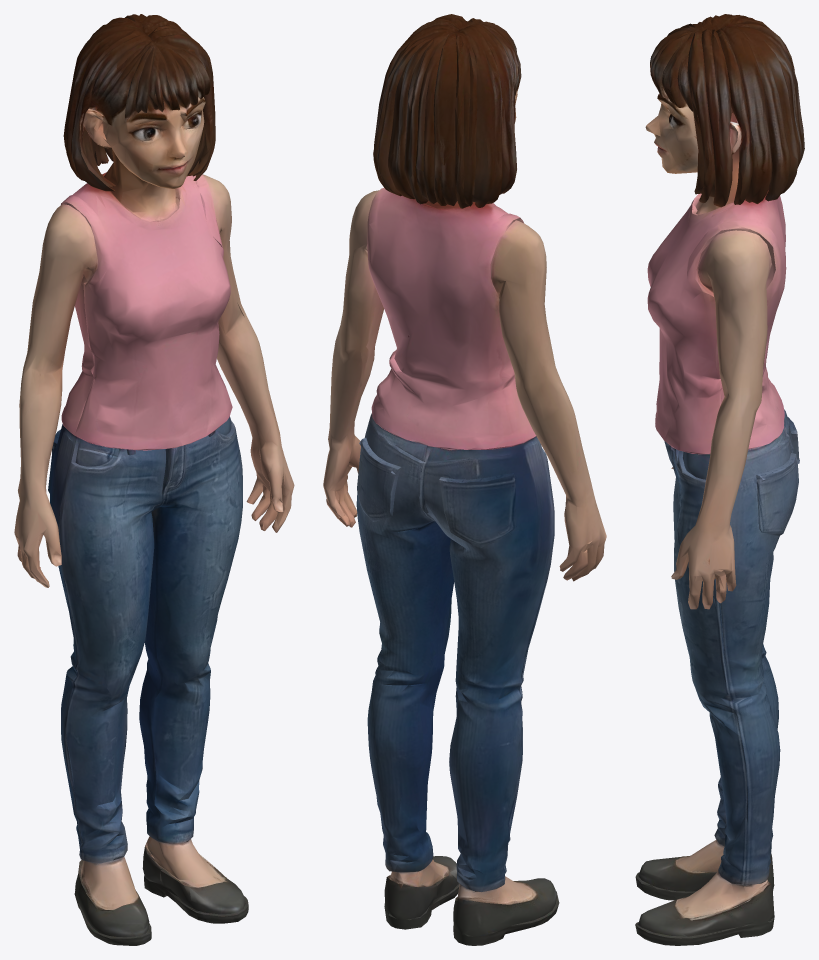
Rendered from player_female_01.glb.
The picture shows the model from 3 angles, left to right: view 1: azimuth 30°, elevation 25°; view 2: azimuth 150°, elevation 25°; view 3: azimuth 270°, elevation 25°; orthographic projection.
Visible parts, largest first — view 1: PlayerFemale01; view 2: PlayerFemale01; view 3: PlayerFemale01.
Part boxes in pixels (left/top/right/bottom): PlayerFemale01: left=14, top=14, right=294, bottom=945; PlayerFemale01: left=323, top=14, right=606, bottom=945; PlayerFemale01: left=635, top=14, right=804, bottom=945.
Size of the model in its own units: 0.5496 by 1.72 by 0.2971.
1 material, 1 textured.
